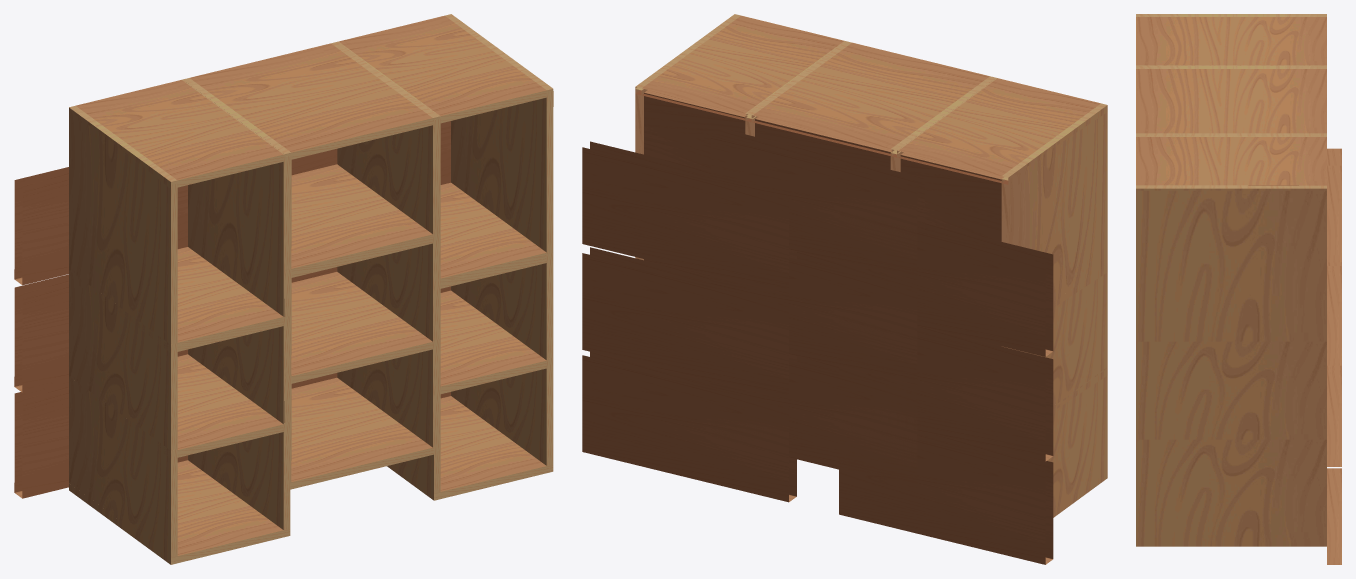
Rendered from layout_3_by_3_closed.fbx.
3 views of the same model, side by side, from view 1: azimuth 30°, elevation 25°; view 2: azimuth 150°, elevation 25°; view 3: azimuth 270°, elevation 25° (orthographic). The views are drawn at different scales.
Visible parts, largest first — view 1: Shelf-CL-01 8, Shelf-TM-00 5, Shelf-CL-01 6, Shelf-CL-01 7, Shelf-CR-01 2, Shelf-TM-00 8, Shelf-TM-00 2, Shelf-CR-01 8, Shelf-BM-00 3, Shelf-BM-00 4, Shelf-BM-00 5, Shelf-BM-00 (+30 smaller); view 2: Shelf-Back-00 (1) 2, Shelf-Back-00 (1) 1, Shelf-Back-00 (1), Shelf-Back-00 (1) 6, Shelf-Back-00 (1) 5, Shelf-Back-00 (1) 7, Shelf-Back-00 (1) 8, Shelf-Back-00 (1) 3, Shelf-TM-00 5, Shelf-Back-00 (1) 4, Shelf-CL-01 8, Shelf-TM-00 2 (+10 smaller); view 3: Shelf-CR-01 2, Shelf-CR-01, Shelf-CR-01 1, Shelf-TM-00 5, Shelf-TM-00 2, Shelf-TM-00 8, Shelf-CR-00, Shelf-Back-00 (1) 2, Shelf-Back-00 (1) 5, Shelf-Back-00 (1), Shelf-Back-00 (1) 1, Shelf-CR-00 (1) 2 (+3 smaller).
Part boxes in pixels (x1,y1,x2,y2): Shelf-CL-01 8: (69, 110, 177, 344); Shelf-TM-00 5: (190, 43, 432, 159); Shelf-CL-01 6: (69, 376, 177, 557); Shelf-CL-01 7: (69, 270, 177, 450); Shelf-CR-01 2: (451, 91, 553, 253); Shelf-TM-00 8: (76, 80, 283, 187); Shelf-TM-00 2: (339, 15, 546, 123); Shelf-CR-01 8: (188, 156, 290, 317); Shelf-BM-00 3: (291, 377, 432, 489); Shelf-BM-00 4: (291, 272, 432, 382); Shelf-BM-00 5: (291, 164, 432, 273); Shelf-BM-00: (440, 396, 546, 498); Shelf-Back-00 (1) 2: (582, 141, 796, 294); Shelf-Back-00 (1) 1: (582, 247, 796, 399); Shelf-Back-00 (1): (582, 351, 796, 502); Shelf-Back-00 (1) 6: (839, 418, 1053, 564); Shelf-Back-00 (1) 5: (710, 128, 924, 280); Shelf-Back-00 (1) 7: (839, 315, 1053, 461); Shelf-Back-00 (1) 8: (839, 210, 1053, 356); Shelf-Back-00 (1) 3: (710, 356, 924, 488); Shelf-TM-00 5: (753, 42, 989, 155); Shelf-Back-00 (1) 4: (710, 250, 924, 385); Shelf-CL-01 8: (1001, 112, 1107, 302); Shelf-TM-00 2: (642, 15, 844, 120); Shelf-CR-01 2: (1136, 190, 1326, 341); Shelf-CR-01: (1136, 439, 1326, 539); Shelf-CR-01 1: (1136, 341, 1326, 440); Shelf-TM-00 5: (1136, 69, 1326, 133); Shelf-TM-00 2: (1136, 137, 1326, 185); Shelf-TM-00 8: (1136, 17, 1326, 65); Shelf-CR-00: (1136, 539, 1326, 546); Shelf-Back-00 (1) 2: (1327, 268, 1341, 365); Shelf-Back-00 (1) 5: (1327, 165, 1341, 262); Shelf-Back-00 (1): (1327, 468, 1341, 564); Shelf-Back-00 (1) 1: (1327, 370, 1341, 466); Shelf-CR-00 (1) 2: (1136, 185, 1326, 190).
Size of the model in its own units: 215 by 166 by 86.31.
